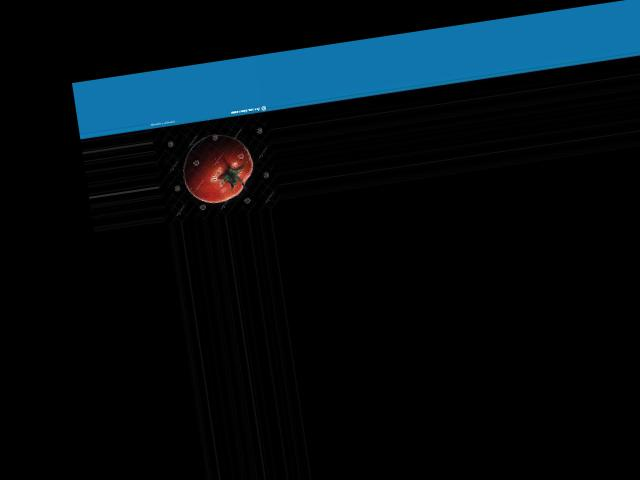tomato: (177, 130, 257, 206)
